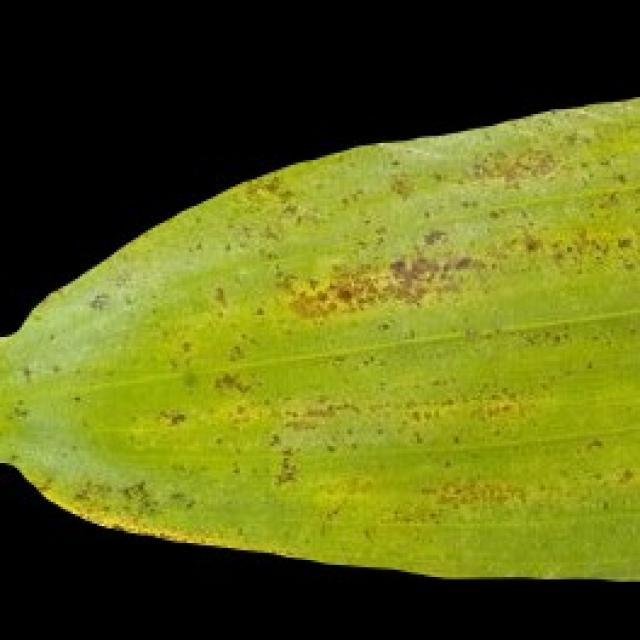mite: (155, 155, 638, 492), (82, 286, 114, 315), (87, 291, 107, 310)
